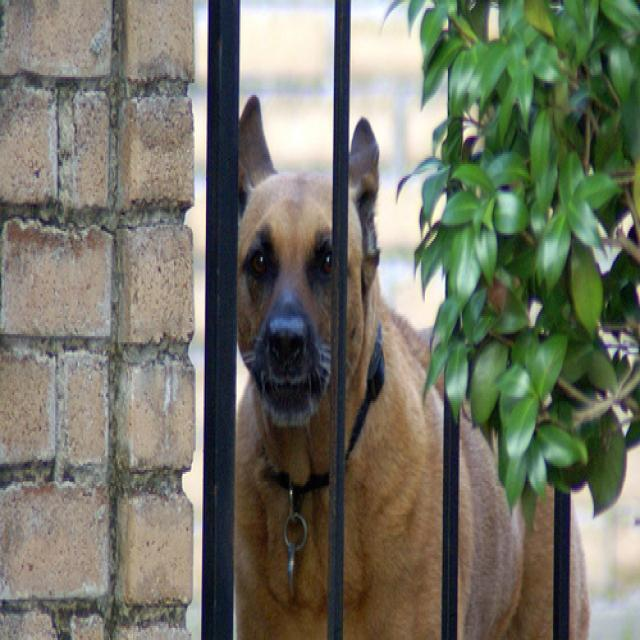dog: (221, 92, 590, 639)
